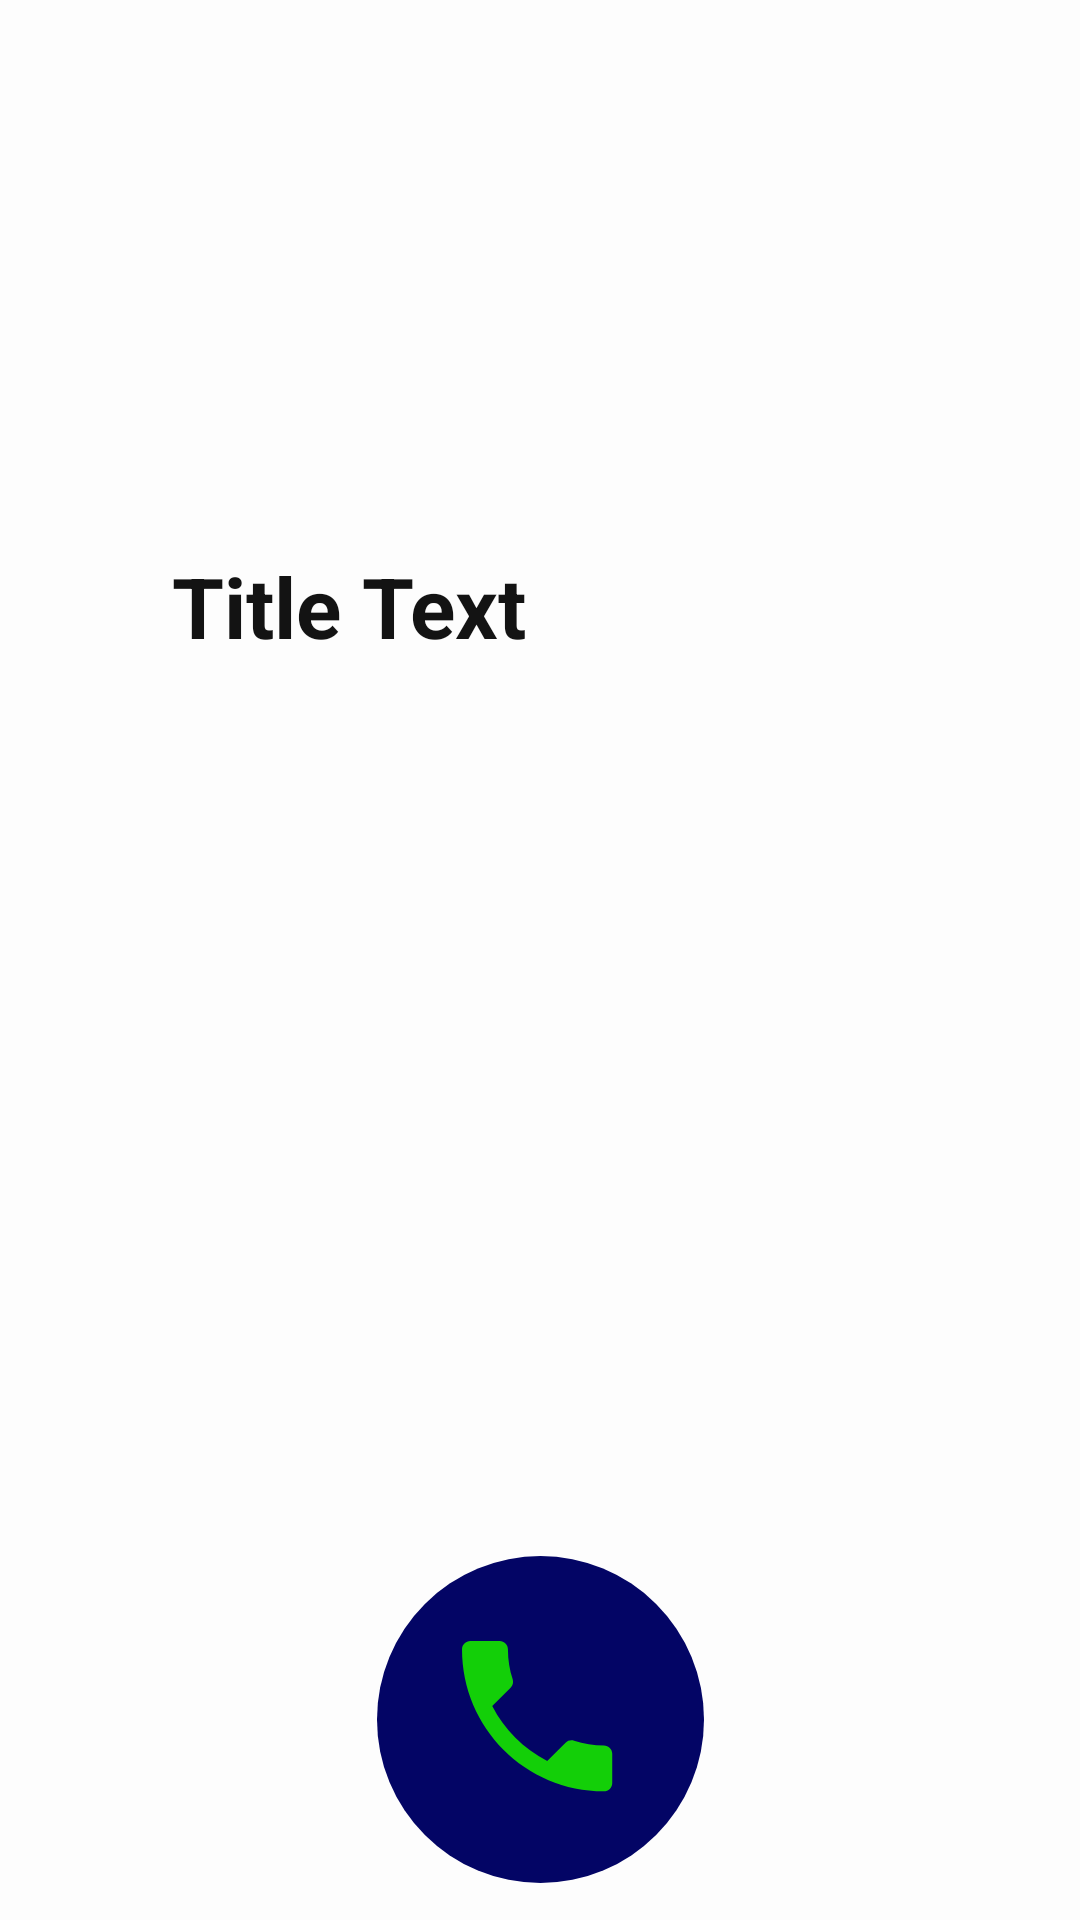

Icon bounding boxes for this 1080w x 1920h phone screenshot, format (x1, y1, x2, y2):
phone: (377, 1556, 704, 1883)
